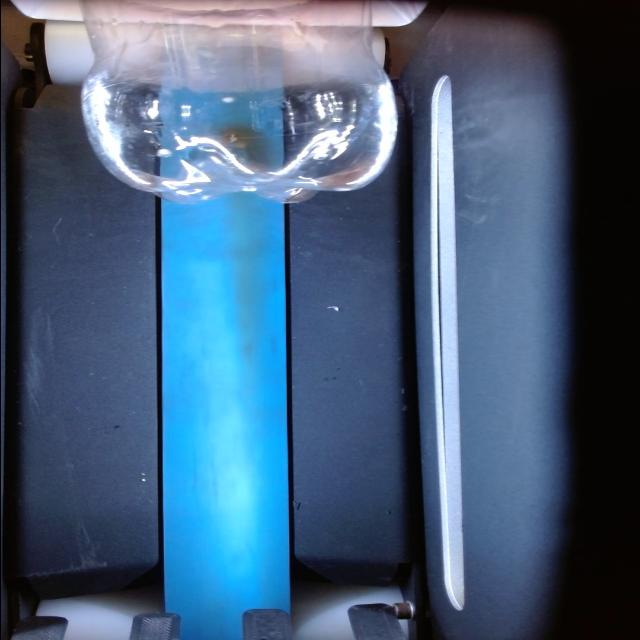bottom: (83, 123, 403, 205)
